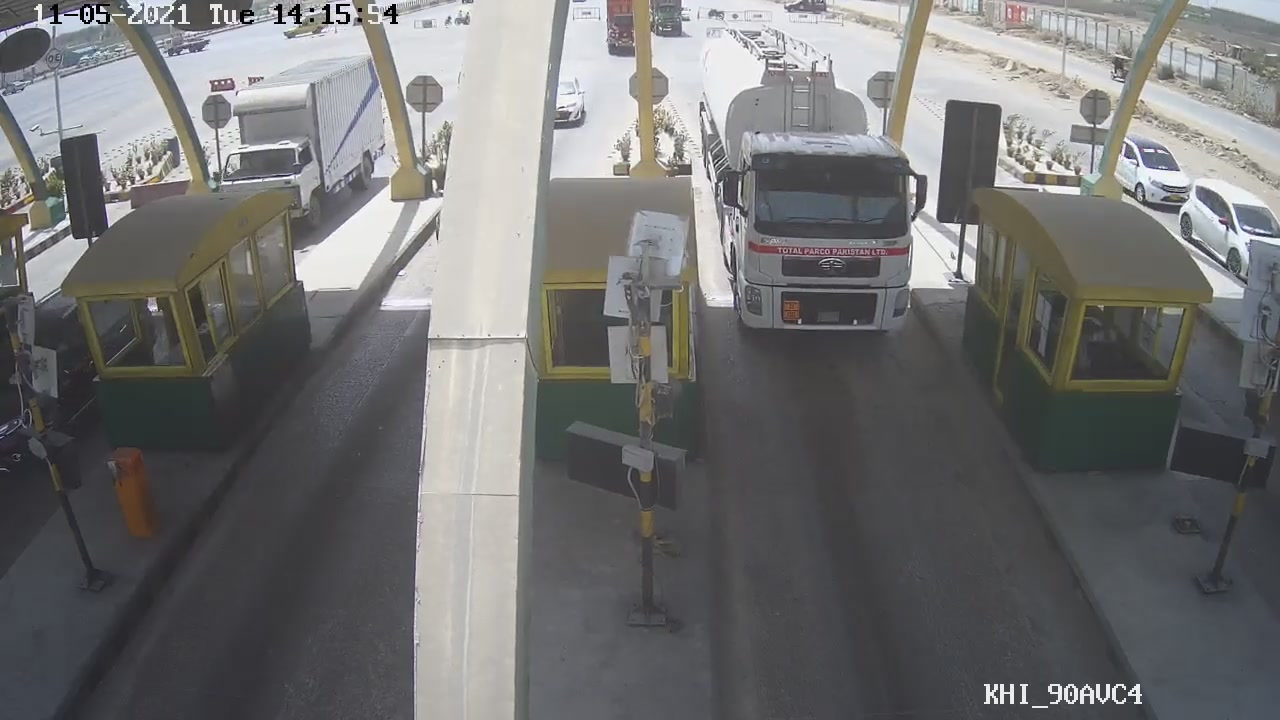F6: (685, 19, 927, 336)
